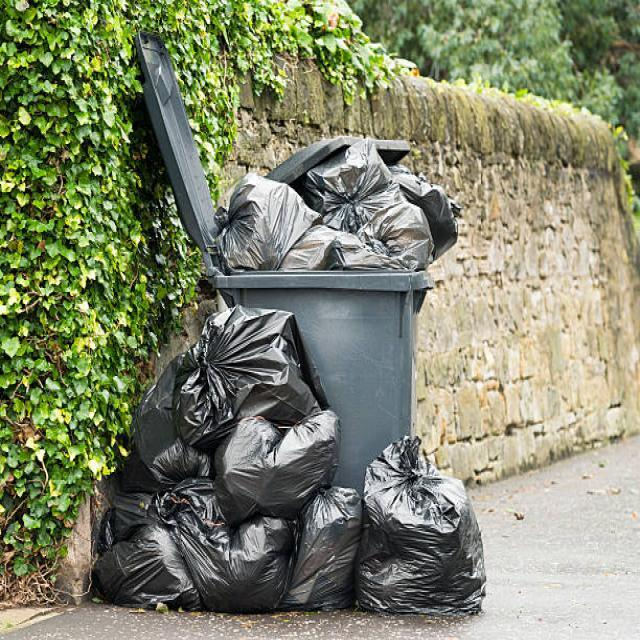garbage: (95, 104, 497, 629)
